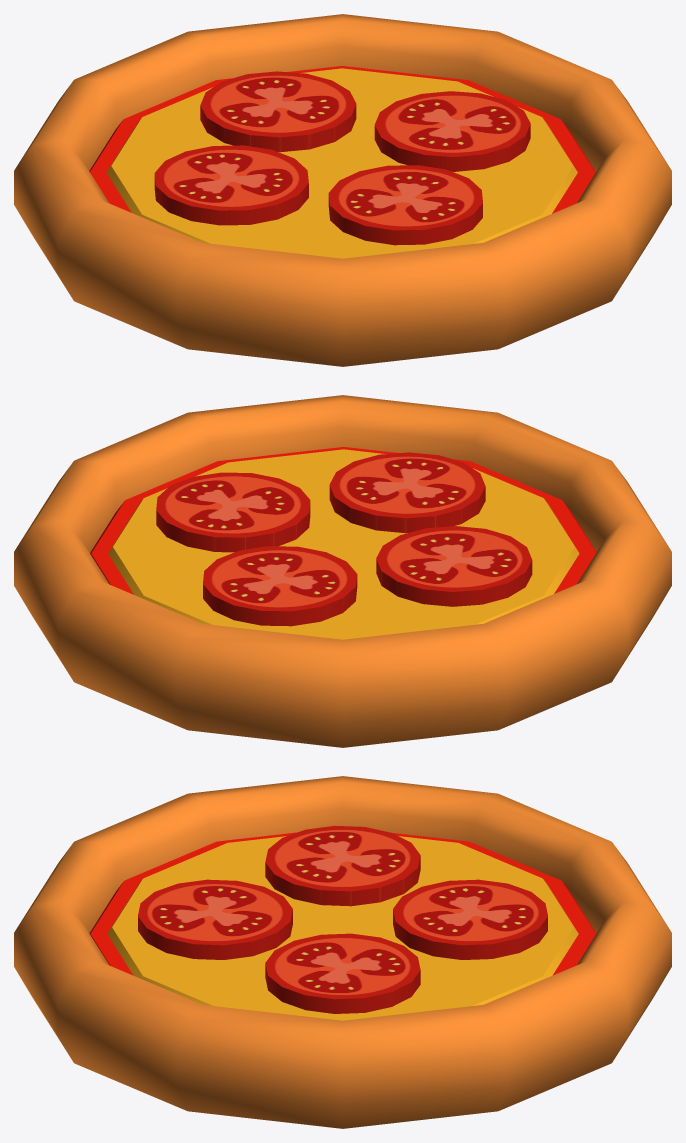
Rendered from Pizza_01.fbx.
The picture shows the model from 3 angles, top to bottom: view 1: azimuth 30°, elevation 25°; view 2: azimuth 150°, elevation 25°; view 3: azimuth 270°, elevation 25°; orthographic projection.
Visible parts, largest first — view 1: Pizza_01; view 2: Pizza_01; view 3: Pizza_01.
Part boxes in pixels (bbox=[...]): Pizza_01: bbox=[14, 14, 671, 366]; Pizza_01: bbox=[14, 395, 671, 747]; Pizza_01: bbox=[14, 776, 671, 1128].
Size of the model in its own units: 98.17 by 15.78 by 98.17.
